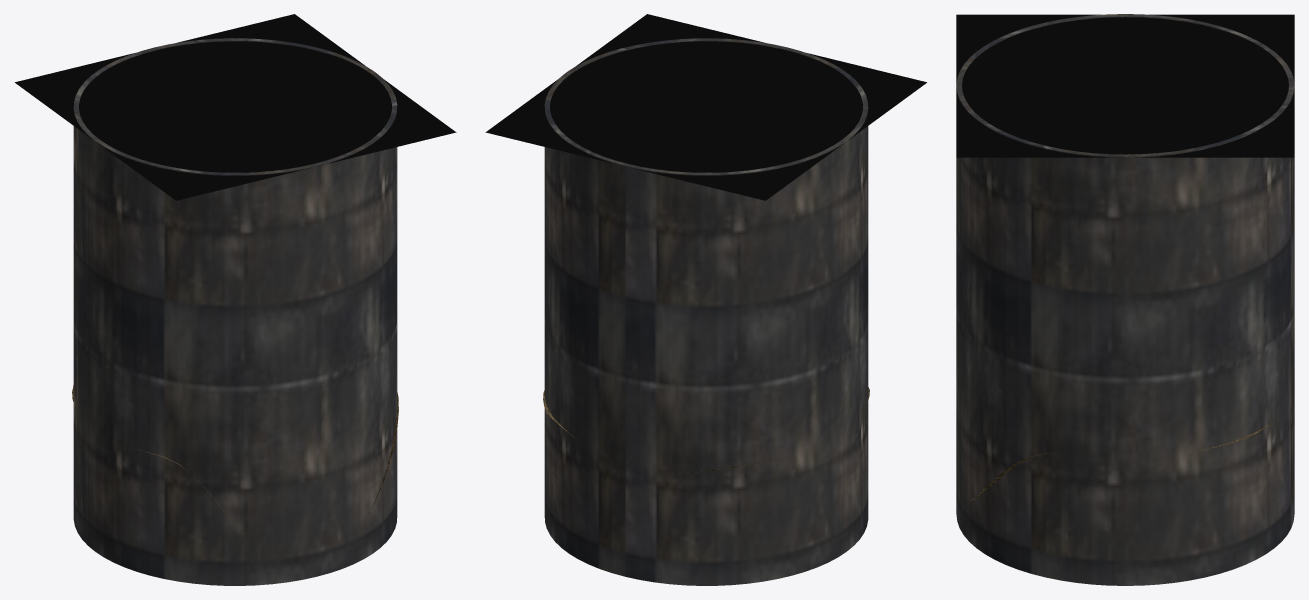
The model's file is well.glb.
The picture shows the model from 3 angles, left to right: view 1: azimuth 30°, elevation 25°; view 2: azimuth 150°, elevation 25°; view 3: azimuth 270°, elevation 25°; orthographic projection. The views are drawn at different scales.
Visible parts, largest first — view 1: Cylinder, Plane.001; view 2: Cylinder, Plane.001; view 3: Cylinder, Plane.001.
Part boxes in pixels (x1,y1,x2,y2): Cylinder: [73, 38, 397, 585]; Plane.001: [15, 14, 456, 200]; Cylinder: [544, 38, 868, 585]; Plane.001: [485, 14, 926, 200]; Cylinder: [956, 14, 1294, 585]; Plane.001: [956, 14, 1294, 157].
Size of the model in its own units: 124 by 174 by 124.
3 materials, 2 textured.
